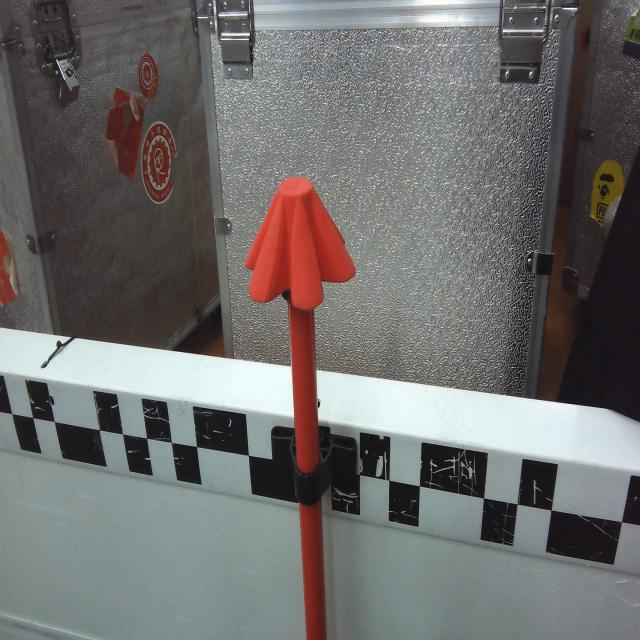zred-Stake-Head: (245, 177, 356, 310)
